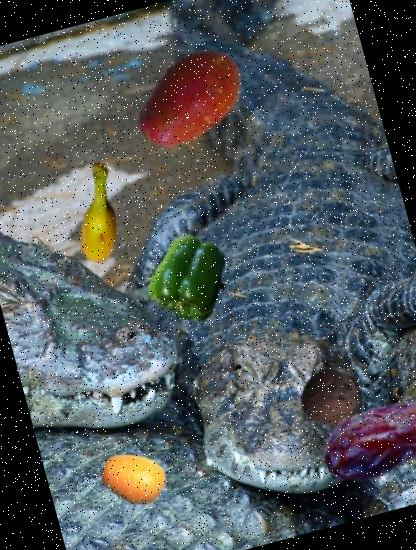Banana: (36, 148, 165, 276)
Cocos: (294, 362, 366, 434)
Dates: (305, 356, 416, 518)
Kumquats: (95, 439, 173, 517)
Pepper: (136, 225, 243, 332)
Potato: (118, 27, 263, 173)
